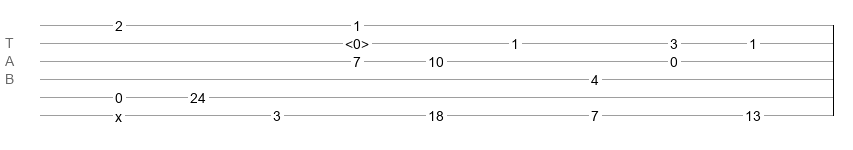0: (115, 90, 123, 100), (670, 54, 678, 64)
1: (353, 18, 361, 28), (511, 36, 519, 46), (749, 36, 757, 46)
10: (428, 54, 444, 64)
13: (745, 108, 761, 118)
18: (428, 108, 444, 118)
2: (115, 18, 123, 28)
24: (190, 90, 206, 100)
3: (273, 108, 281, 118), (670, 36, 678, 46)
4: (591, 72, 599, 82)
7: (353, 54, 361, 64), (591, 108, 599, 118)
harmonic: (345, 36, 369, 46)
x: (115, 109, 122, 117)
